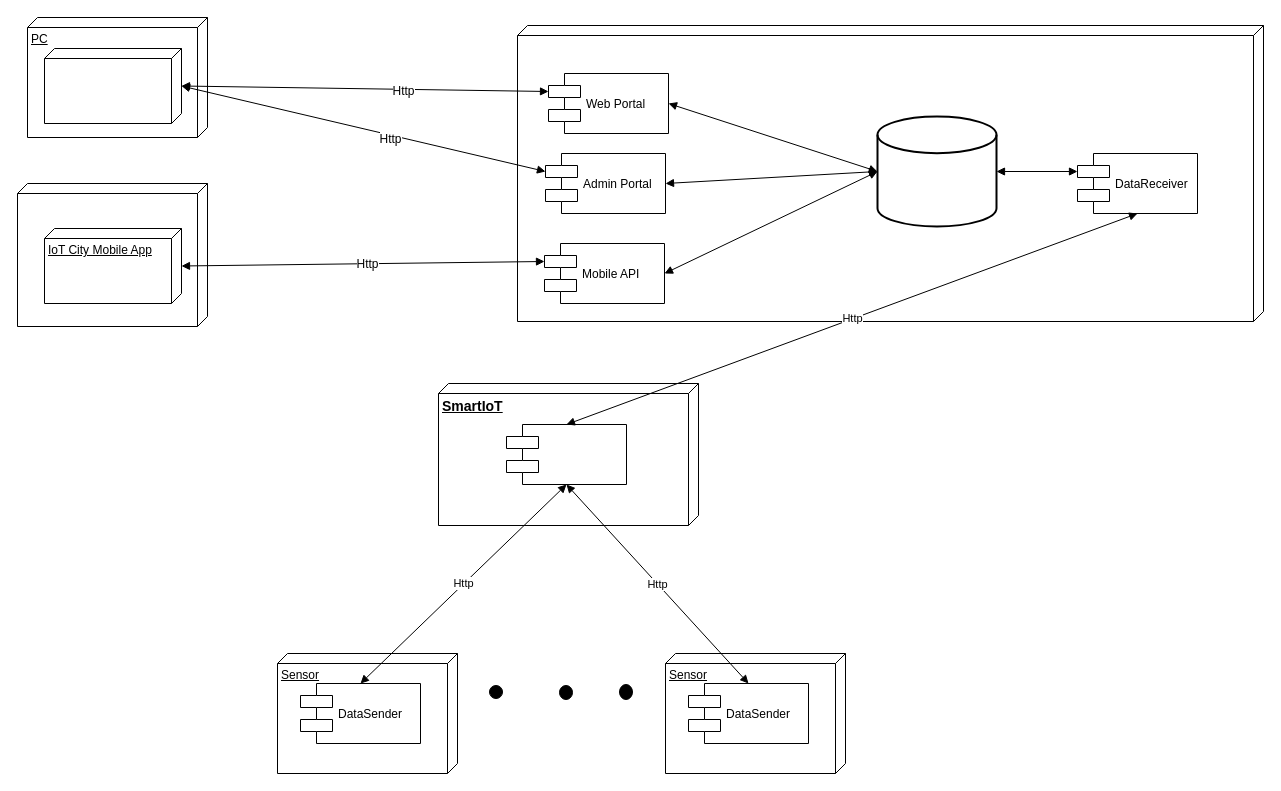
Image size: 1281x791. Some labels were removed from this diagram. Each missing label, with the box of its shape:
Android 4.0 or >: (16, 182, 208, 326)
IoT City Database [PostgreSQL]: (876, 115, 997, 227)
IoT City Web Server: (516, 24, 1264, 322)
Web Browser: (44, 48, 182, 124)
WebService: (506, 424, 626, 484)
